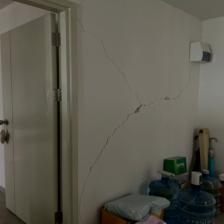High: (75, 2, 188, 154)
